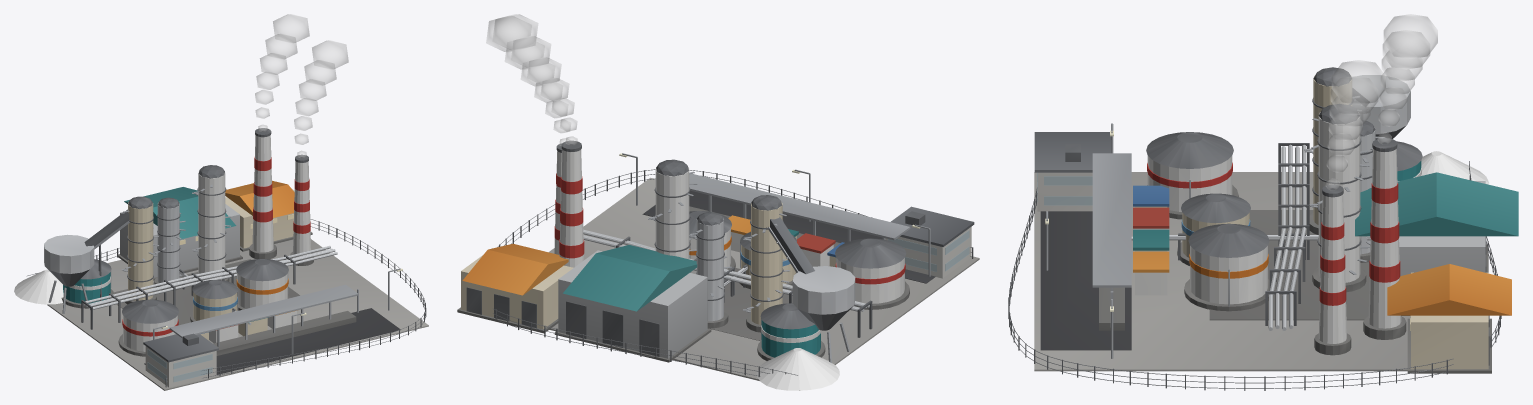
File: Refinery_P2.fbx
3 views of the same model, side by side, from view 1: azimuth 30°, elevation 25°; view 2: azimuth 150°, elevation 25°; view 3: azimuth 270°, elevation 25° (orthographic). The views are drawn at different scales.
Visible parts, largest first — view 1: Refinery.Pad, Refinery.Bay, Refinery.Hall, Refinery.Office, Refinery.Col2, Refinery.Rack1, Refinery.Stack0, Refinery.Col0, Refinery.Smoke0, Refinery.Smoke1, Refinery.Shed, Refinery.Tank0 (+10 smaller); view 2: Refinery.Hall, Refinery.Pad, Refinery.Shed, Refinery.Office, Refinery.Tank0, Refinery.Bay, Refinery.Smoke0, Refinery.Col0, Refinery.Col2, Refinery.Intake, Refinery.Smoke1, Refinery.Stack0 (+10 smaller); view 3: Refinery.Pad, Refinery.Hall, Refinery.Shed, Refinery.Tank3, Refinery.Bay, Refinery.Col2, Refinery.Stack0, Refinery.Tank0, Refinery.Rack1, Refinery.Office, Refinery.Stack1, Refinery.Smoke1 (+10 smaller).
Part boxes in pixels (x1,y1,x2,y2): Refinery.Pad: (47, 239, 428, 390); Refinery.Bay: (169, 284, 358, 355); Refinery.Hall: (118, 187, 242, 280); Refinery.Office: (143, 333, 218, 387); Refinery.Col2: (192, 165, 230, 281); Refinery.Rack1: (81, 246, 337, 329); Refinery.Stack0: (249, 128, 276, 259); Refinery.Col0: (121, 196, 159, 304); Refinery.Smoke0: (255, 14, 309, 131); Refinery.Smoke1: (294, 40, 348, 158); Refinery.Shed: (225, 180, 312, 251); Refinery.Tank0: (118, 299, 178, 356); Refinery.Hall: (554, 245, 711, 362); Refinery.Pad: (549, 177, 979, 390); Refinery.Shed: (457, 243, 573, 333); Refinery.Office: (885, 206, 974, 278); Refinery.Tank0: (835, 238, 909, 309); Refinery.Bay: (689, 173, 910, 247); Refinery.Smoke0: (492, 14, 577, 145); Refinery.Col0: (743, 195, 789, 332); Refinery.Col2: (648, 159, 697, 259); Refinery.Intake: (792, 266, 855, 362); Refinery.Smoke1: (486, 16, 570, 145); Refinery.Stack0: (559, 140, 584, 267); Refinery.Pad: (1034, 172, 1410, 371); Refinery.Hall: (1355, 172, 1518, 315); Refinery.Shed: (1387, 264, 1511, 373); Refinery.Tank3: (1184, 223, 1269, 311); Refinery.Bay: (1092, 153, 1131, 330); Refinery.Col2: (1309, 104, 1369, 292); Refinery.Stack0: (1363, 138, 1406, 339); Refinery.Tank0: (1146, 132, 1238, 219); Refinery.Rack1: (1265, 143, 1309, 330); Refinery.Office: (1034, 132, 1111, 211); Refinery.Stack1: (1314, 184, 1351, 355); Refinery.Smoke1: (1326, 60, 1385, 189).
Size of the model in its own units: 8386 by 5886 by 7858.
